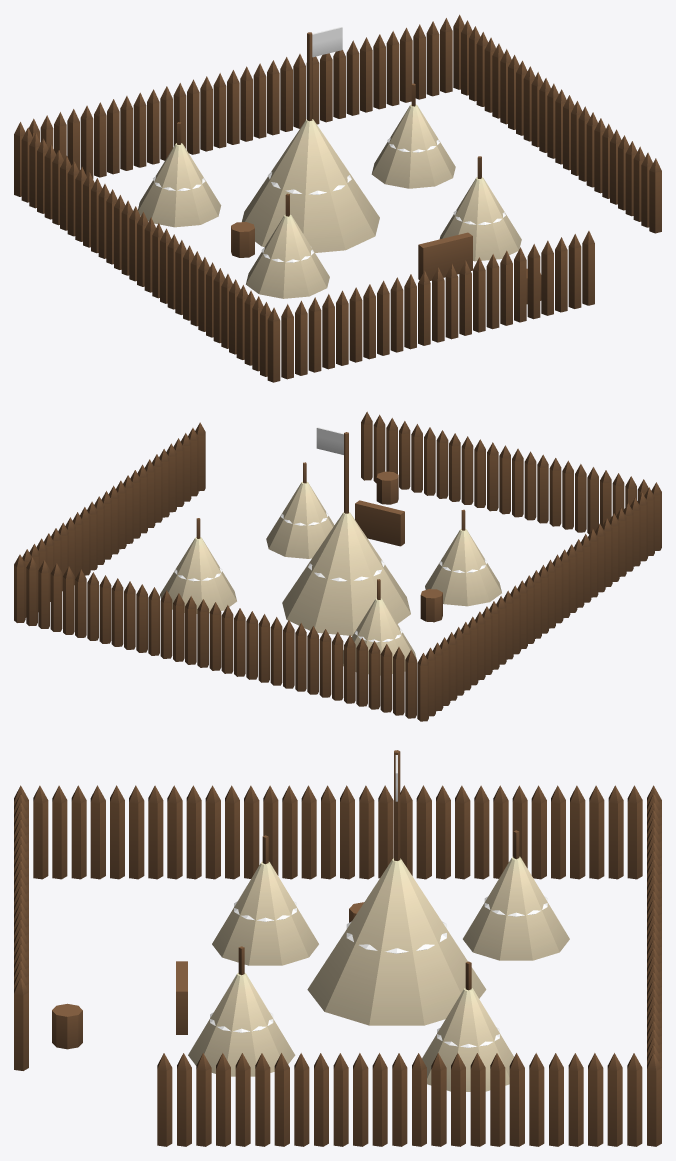
Rendered from CAMP_ME.glb.
The picture shows the model from 3 angles, top to bottom: view 1: azimuth 30°, elevation 25°; view 2: azimuth 150°, elevation 25°; view 3: azimuth 270°, elevation 25°; orthographic projection. The views are drawn at different scales.
Visible parts, largest first — view 1: Body, Flag; view 2: Body, Flag; view 3: Body.
Boxes of the visible parts, box(x1,y1,x2,y2) form: Body: box(14, 14, 661, 382); Flag: box(312, 27, 342, 57); Body: box(14, 411, 661, 721); Flag: box(316, 427, 343, 454); Body: box(14, 750, 661, 1146).
Size of the model in its own units: 5.43 by 2.2 by 5.43.
1 material, 1 textured.
